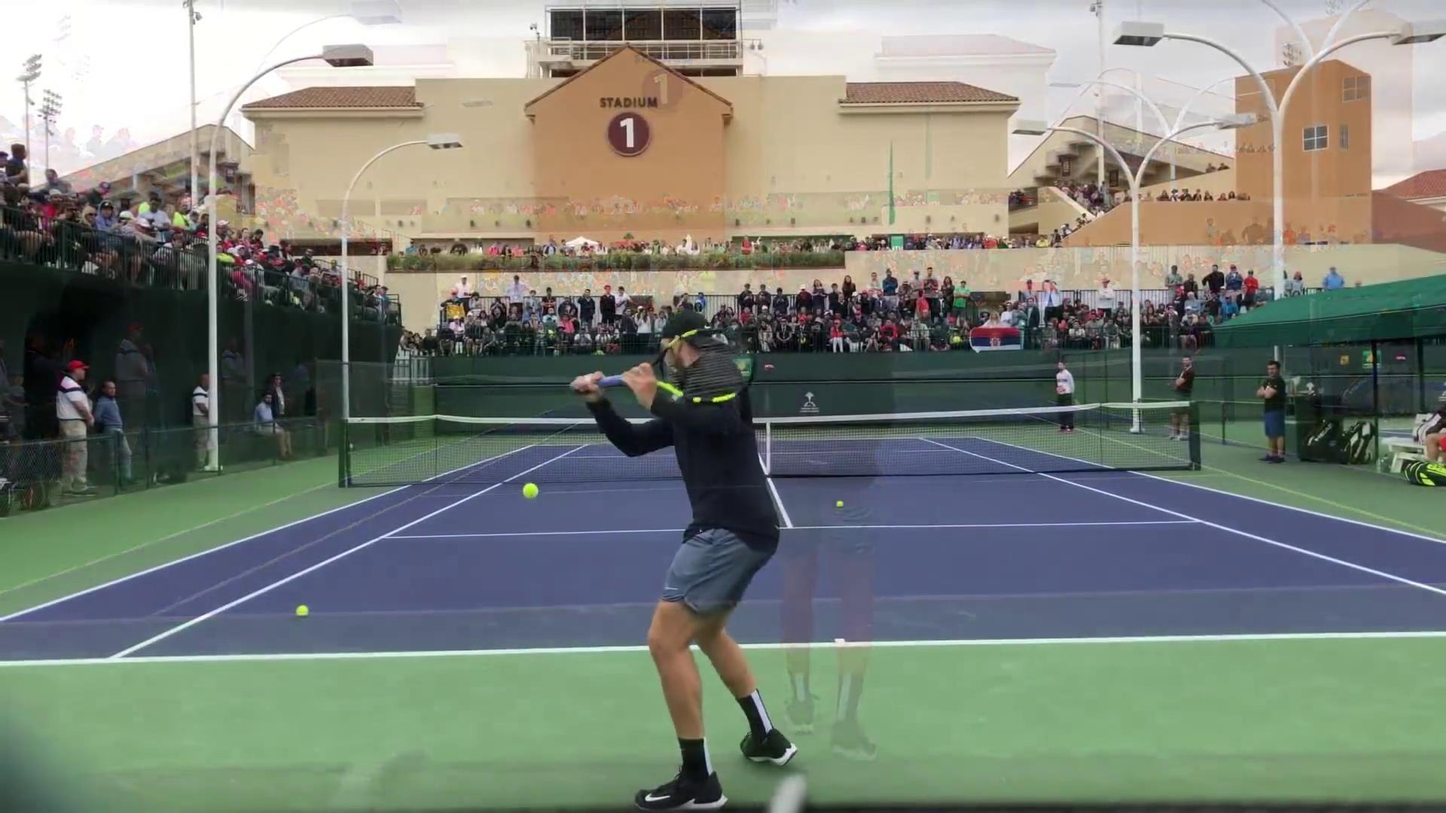ball: (525, 479, 537, 487)
